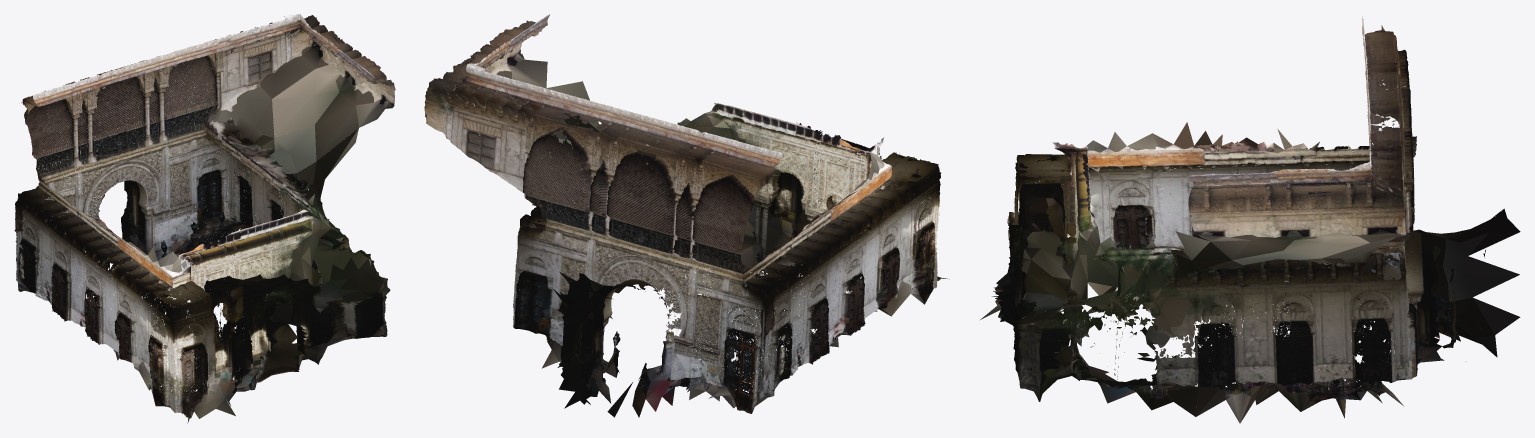
The picture shows the model from 3 angles, left to right: view 1: azimuth 30°, elevation 25°; view 2: azimuth 150°, elevation 25°; view 3: azimuth 270°, elevation 25°; orthographic projection. The views are drawn at different scales.
Visible parts, largest first — view 1: Alhambra_Patio_PG; view 2: Alhambra_Patio_PG; view 3: Alhambra_Patio_PG.
Part boxes in pixels (<box>): Alhambra_Patio_PG: <box>14,14,395,423</box>; Alhambra_Patio_PG: <box>424,14,949,417</box>; Alhambra_Patio_PG: <box>980,15,1520,423</box>.
Size of the model in its own units: 22.29 by 16.6 by 27.52.
Materials: 1 (1 with a texture image).
